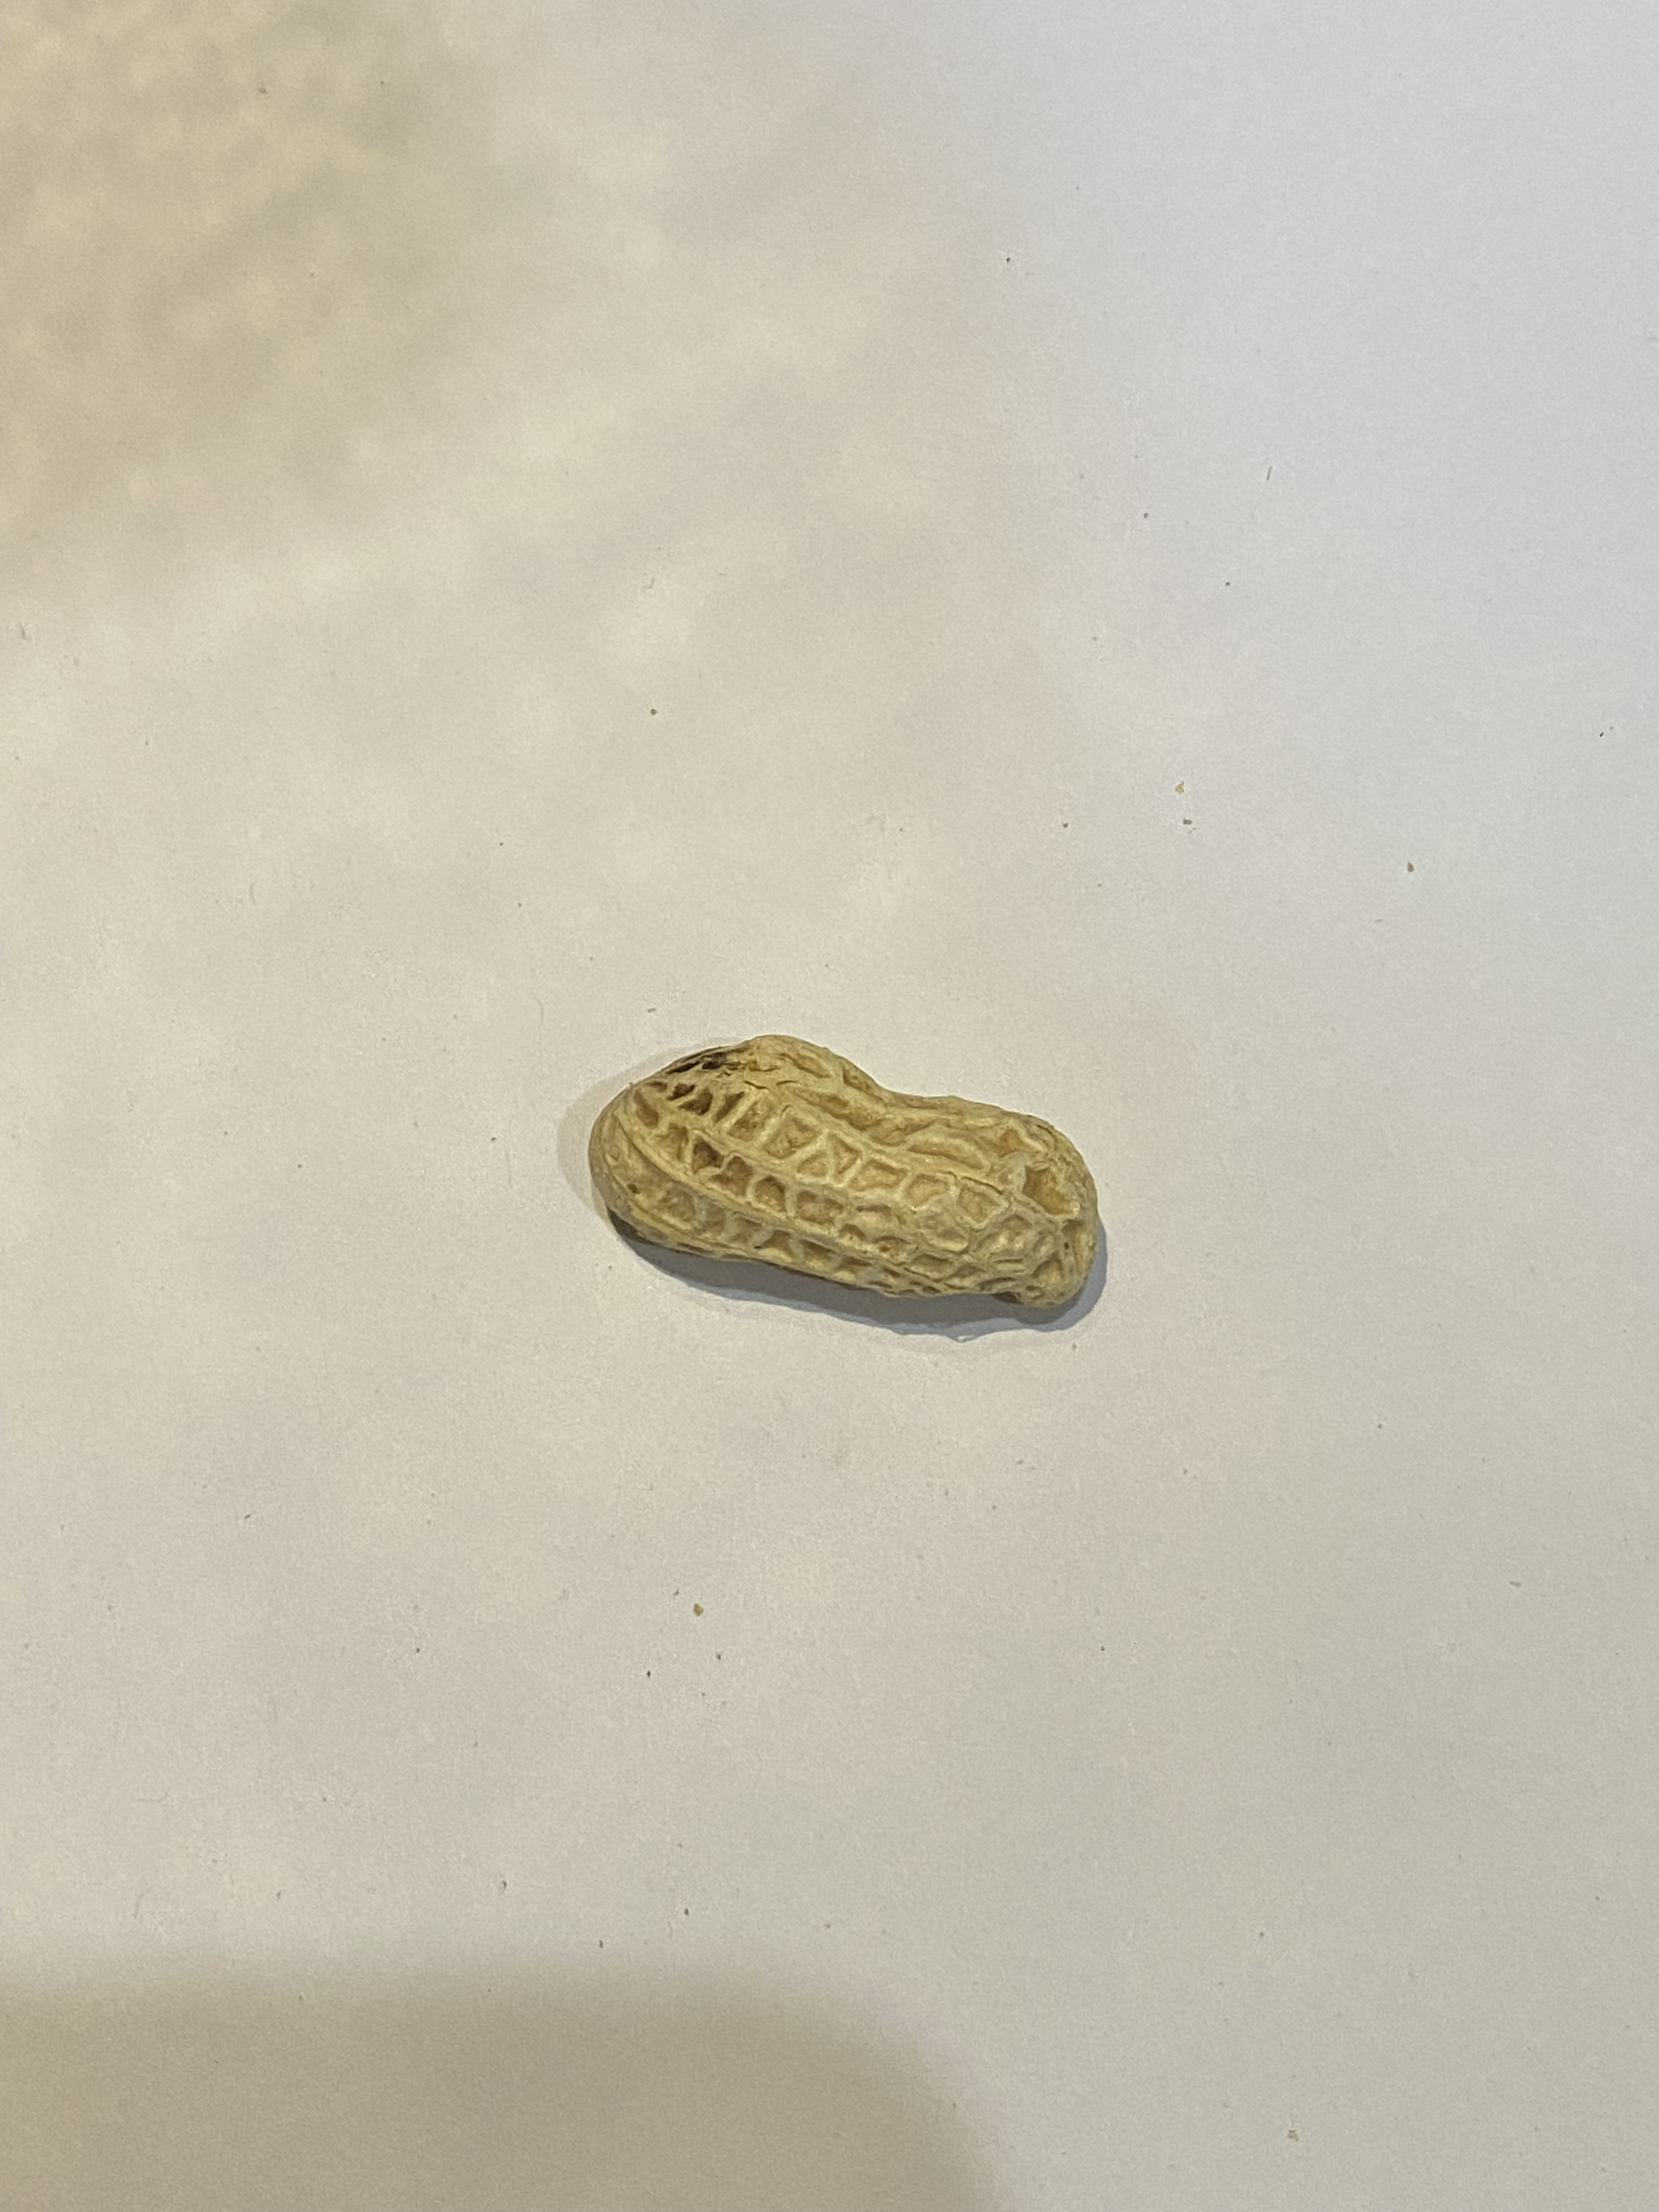kacang2: (577, 1014, 1112, 1329)
